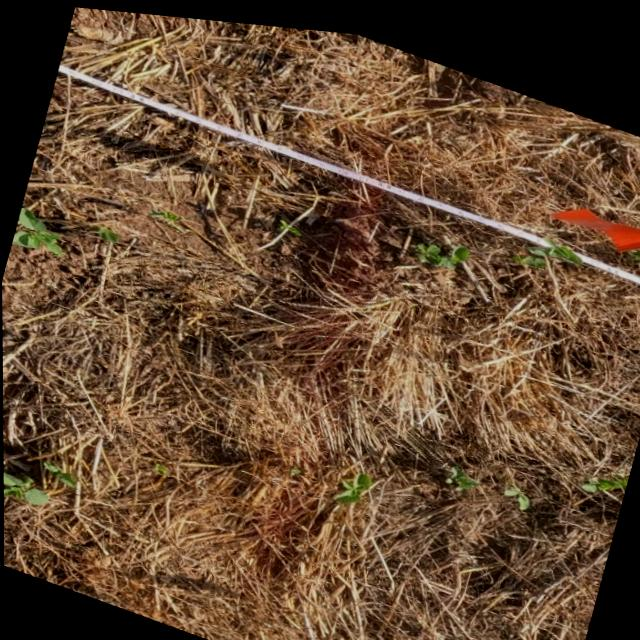soy_plant: (12, 207, 62, 254), (516, 226, 581, 256), (3, 469, 49, 505), (414, 233, 469, 258), (334, 463, 372, 496), (41, 460, 75, 486), (580, 462, 628, 480), (445, 456, 479, 481), (504, 472, 529, 499), (149, 206, 181, 220), (97, 223, 118, 240), (153, 460, 168, 474)
